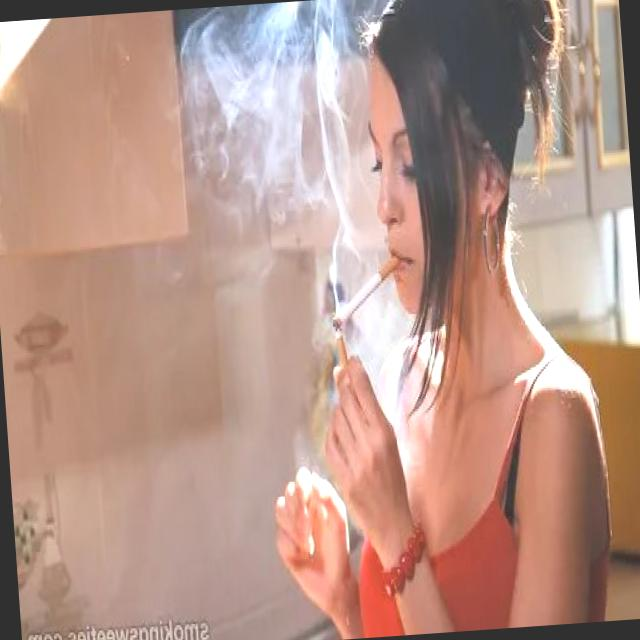smoke: (326, 254, 406, 336), (330, 327, 351, 376)
